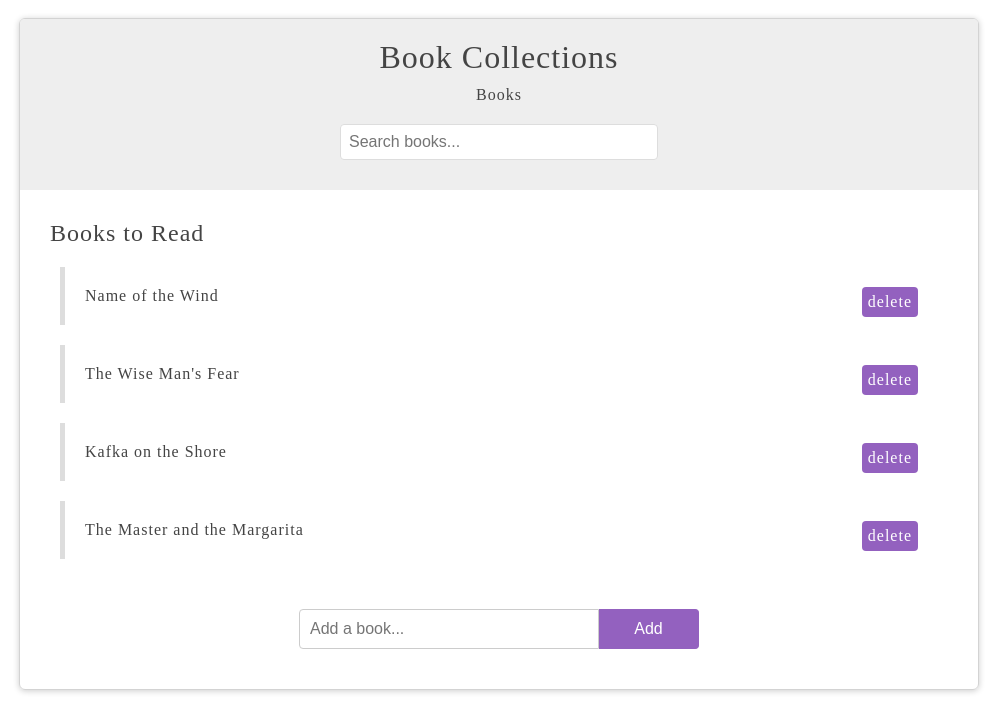
Scenario: that i can delete a book
Click the text "delete" in the row of "Name of the Wind" at (890, 302), box [862, 287, 918, 317]
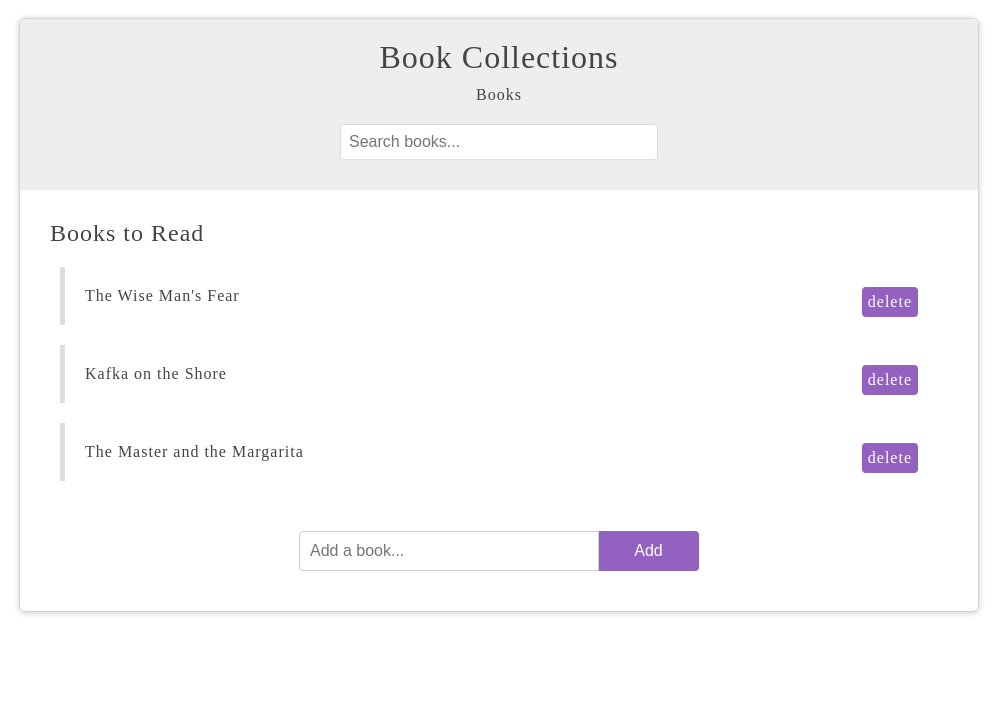
Now the number of list items is 3, box [60, 267, 938, 325]; [60, 345, 938, 403]; [60, 423, 938, 481]
